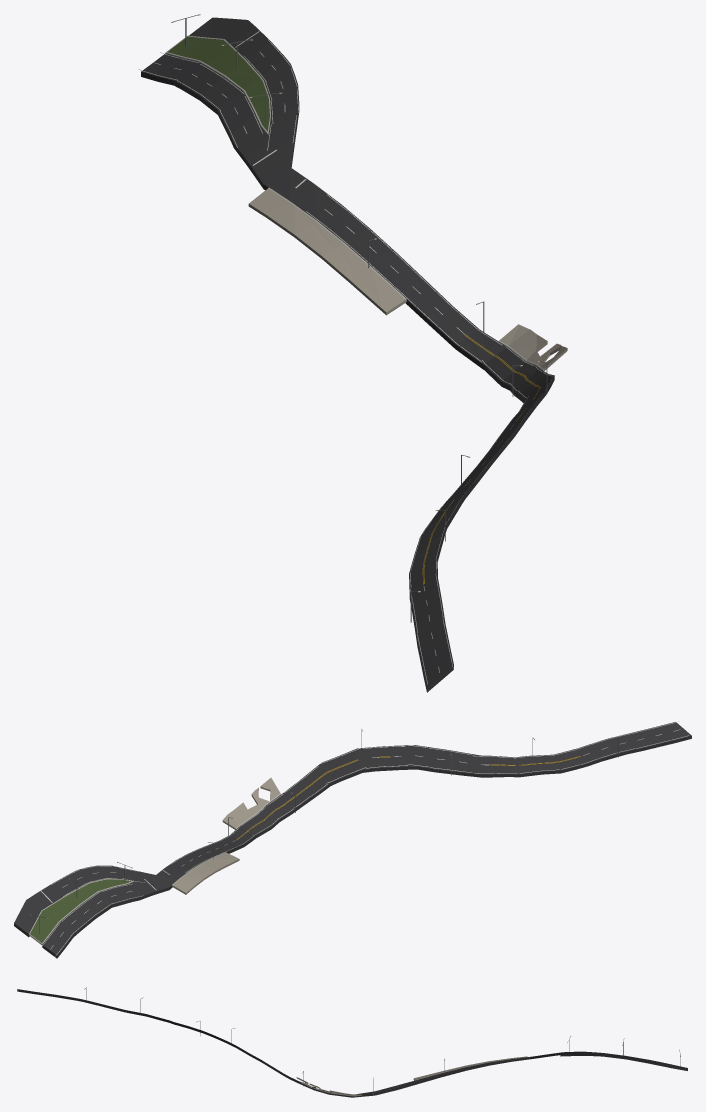
3 views of the same model, one above another, from view 1: azimuth 30°, elevation 25°; view 2: azimuth 150°, elevation 25°; view 3: azimuth 270°, elevation 25° (orthographic). The views are drawn at different scales.
Bounding box in the file's own units: 117 × 29.66 × 297.
